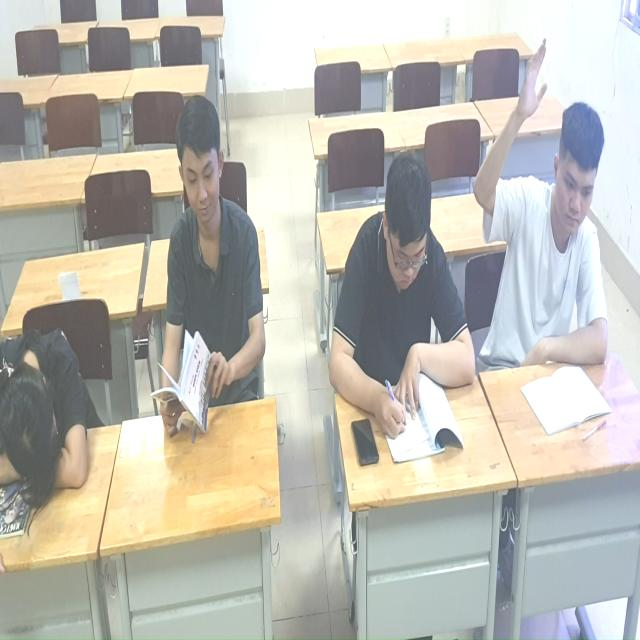raise_hand: (483, 18, 612, 422)
read: (331, 139, 491, 457), (155, 86, 283, 470)
sleep: (1, 295, 101, 524)
